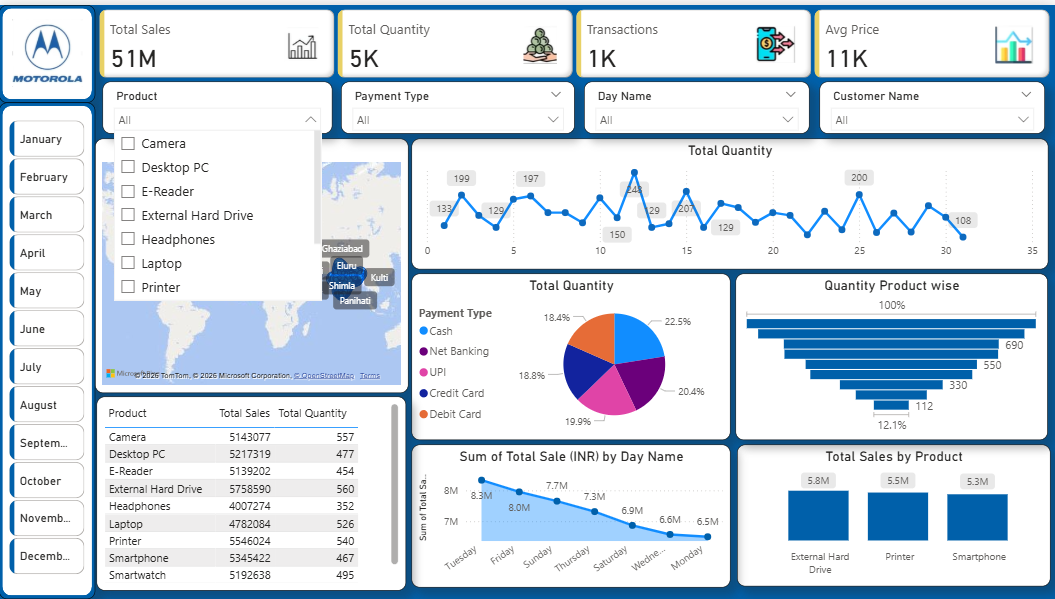

This screenshot's page, from the dashboard's own definition file:
{"tool":"powerbi","page":{"name":"Page 1","canvas":[1280,720],"ordinal":0},"visuals":[{"type":"shape","box":[0,0,116.7,118.3],"z":0},{"type":"image","box":[10,11.7,95,95],"z":1000},{"type":"shape","box":[0,118.3,116.7,601.7],"z":1001},{"type":"advancedSlicerVisual","fields":{"Values":["Sales_Data.Sales Date.Variation.Date Hierarchy.Month"]},"box":[6.7,135,101.7,570],"z":1002},{"type":"cardVisual","fields":{"Data":["Sales_Data.Total Sales","Sales_Data.Total Quantity","Sales_Data.Transactions","Sales_Data.Avg Price"]},"box":[116.7,0,1163.3,93.3],"z":1003},{"type":"map","fields":{"Category":["Sales_Data.City"],"Size":["Sales_Data.Total Sales"]},"box":[116.7,161.7,380,308.3],"z":1004},{"type":"lineChart","title":"Total Quantity","fields":{"Category":["Sales_Data.Sales Date.Variation.Date Hierarchy.Month","Sales_Data.Sales Date.Variation.Date Hierarchy.Day"],"Y":["Sales_Data.Total Quantity"]},"box":[500,161.7,771.7,158.3],"z":1005},{"type":"clusteredColumnChart","title":"Total Sales by Product","fields":{"Y":["Sum(Sales_Data.Total Sale (INR))"],"Category":["Sales_Data.Product"]},"box":[895,533.3,380,171.7],"z":1006},{"type":"pieChart","title":"Total Quantity","fields":{"Category":["Sales_Data.Payment Type"],"Y":["Sales_Data.Transactions"]},"box":[500,325,386.7,201.7],"z":1007},{"type":"funnel","title":"Quantity Product wise","fields":{"Category":["Sales_Data.Quantity"],"Y":["Sum(Sales_Data.Quantity)"]},"box":[893.3,325,378.3,201.7],"z":1008},{"type":"areaChart","fields":{"Category":["Sales_Data.Day Name"],"Y":["Sum(Sales_Data.Total Sale (INR))"]},"box":[500,533.3,386.7,173.3],"z":1009},{"type":"tableEx","title":"Total Quantity","fields":{"Values":["Sales_Data.Product","Sales_Data.Total Sales","Sales_Data.Total Quantity"]},"box":[118.3,475,375,235],"z":1010},{"type":"slicer","fields":{"Values":["Sales_Data.Product"]},"box":[125,93.3,278.3,63.3],"z":1011},{"type":"slicer","fields":{"Values":["Sales_Data.Payment Type"]},"box":[415,93.3,283.3,63.3],"z":1012},{"type":"slicer","fields":{"Values":["Sales_Data.Day Name"]},"box":[708.3,93.3,273.3,63.3],"z":1013},{"type":"slicer","fields":{"Values":["Sales_Data.Customer Name"]},"box":[995,93.3,273.3,63.3],"z":1014}]}

Visuals, with their boxes in screenshot pixels (x1, y1, x2, y2), scaled from the page's 1280x720 canvas onto the 1055x599 screenshot:
shape: <box>0,0,96,98</box>
image: <box>8,10,87,89</box>
shape: <box>0,98,96,598</box>
advancedSlicerVisual - Sales_Data.Sales Date.Variation.Date Hierarchy.Month: <box>6,112,89,587</box>
cardVisual - Sales_Data.Total Sales x Sales_Data.Total Quantity: <box>96,0,1054,78</box>
map - Sales_Data.City x Sales_Data.Total Sales: <box>96,135,409,391</box>
"Total Quantity" lineChart: <box>412,135,1048,266</box>
"Total Sales by Product" clusteredColumnChart: <box>738,444,1051,587</box>
"Total Quantity" pieChart: <box>412,270,731,438</box>
"Quantity Product wise" funnel: <box>736,270,1048,438</box>
areaChart - Sales_Data.Day Name x Sum(Sales_Data.Total Sale (INR)): <box>412,444,731,588</box>
"Total Quantity" tableEx: <box>98,395,407,591</box>
slicer - Sales_Data.Product: <box>103,78,332,130</box>
slicer - Sales_Data.Payment Type: <box>342,78,576,130</box>
slicer - Sales_Data.Day Name: <box>584,78,809,130</box>
slicer - Sales_Data.Customer Name: <box>820,78,1045,130</box>
